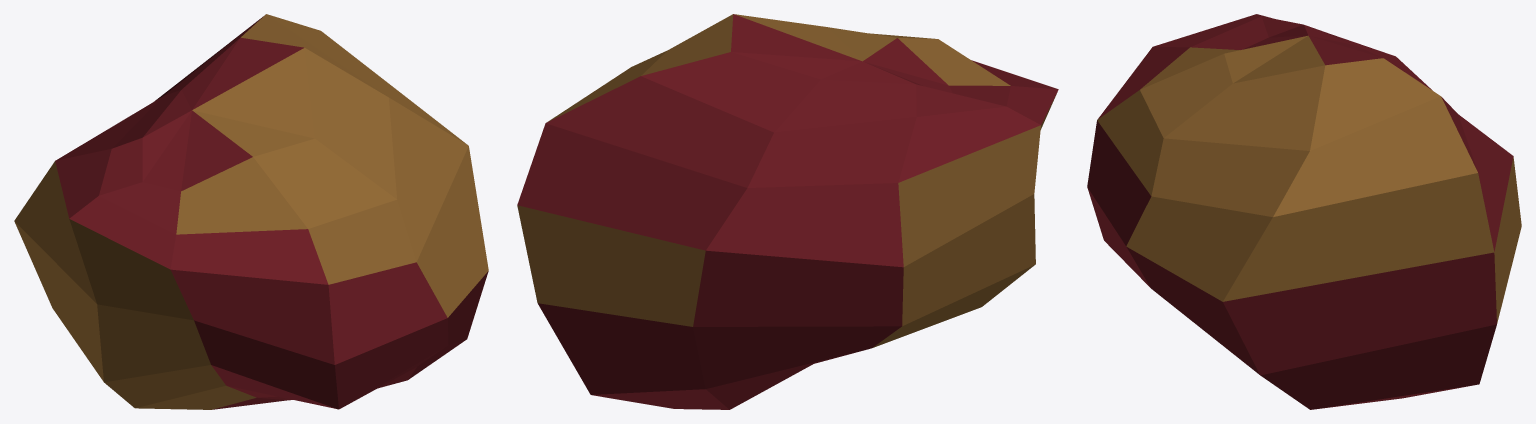
Rendered from gib03.glb.
3 renders of one model, left to right at view 1: azimuth 30°, elevation 25°; view 2: azimuth 150°, elevation 25°; view 3: azimuth 270°, elevation 25°, orthographic. The views are drawn at different scales.
Visible parts, largest first — view 1: gib03; view 2: gib03; view 3: gib03.
Boxes of the visible parts, left/top/right/bottom form: gib03: left=14, top=14, right=488, bottom=409; gib03: left=517, top=14, right=1058, bottom=409; gib03: left=1087, top=14, right=1521, bottom=409.
Bounding box in the file's own units: 1.46 × 1.27 × 1.54.
